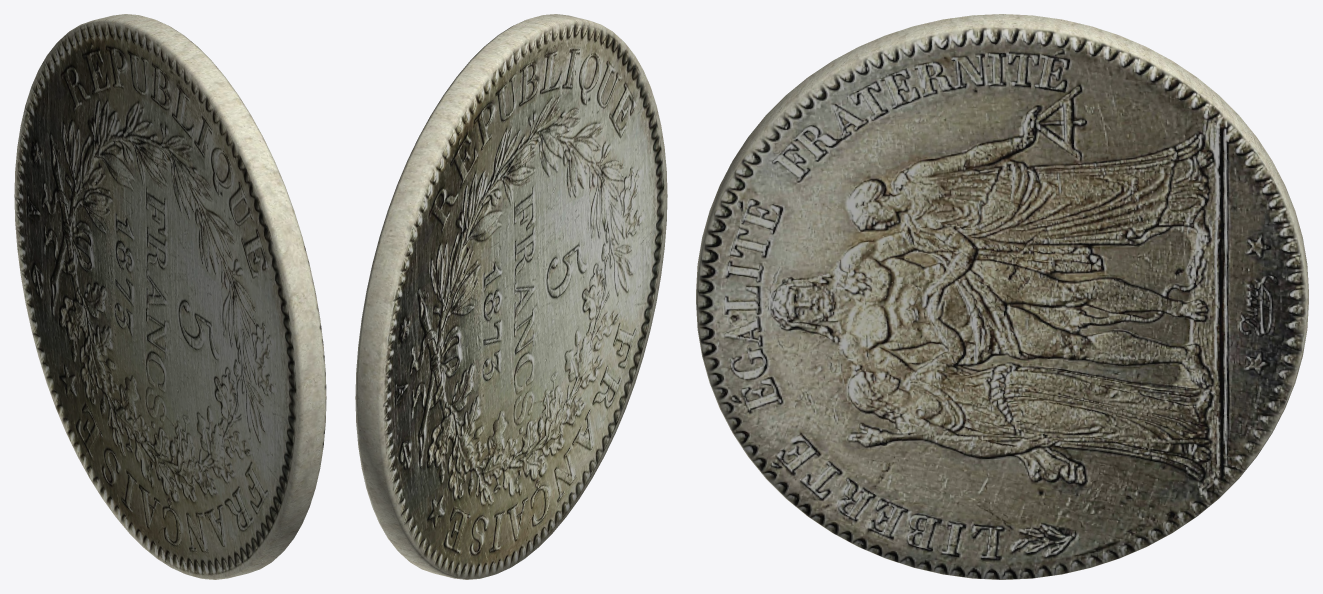
File: 5_Frank.obj
3 renders of one model, left to right at view 1: azimuth 30°, elevation 25°; view 2: azimuth 150°, elevation 25°; view 3: azimuth 270°, elevation 25°, orthographic. The views are drawn at different scales.
Visible parts, largest first — view 1: 5_Frank; view 2: 5_Frank; view 3: 5_Frank.
Part boxes in pixels (x1=…): 5_Frank: x1=14, y1=14, x2=326, y2=579; 5_Frank: x1=355, y1=14, x2=667, y2=579; 5_Frank: x1=696, y1=14, x2=1308, y2=579.
Bounding box in the file's own units: 0.002 × 0.037 × 0.037.
